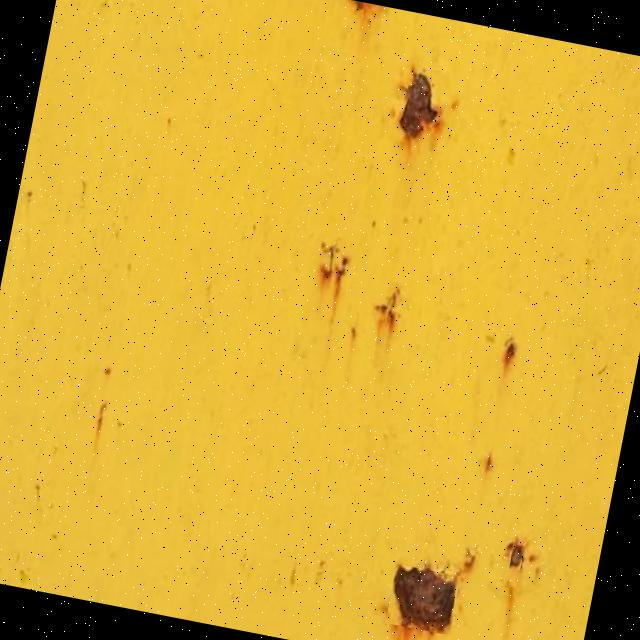Corrosion: (384, 559, 462, 636), (387, 62, 449, 156)
